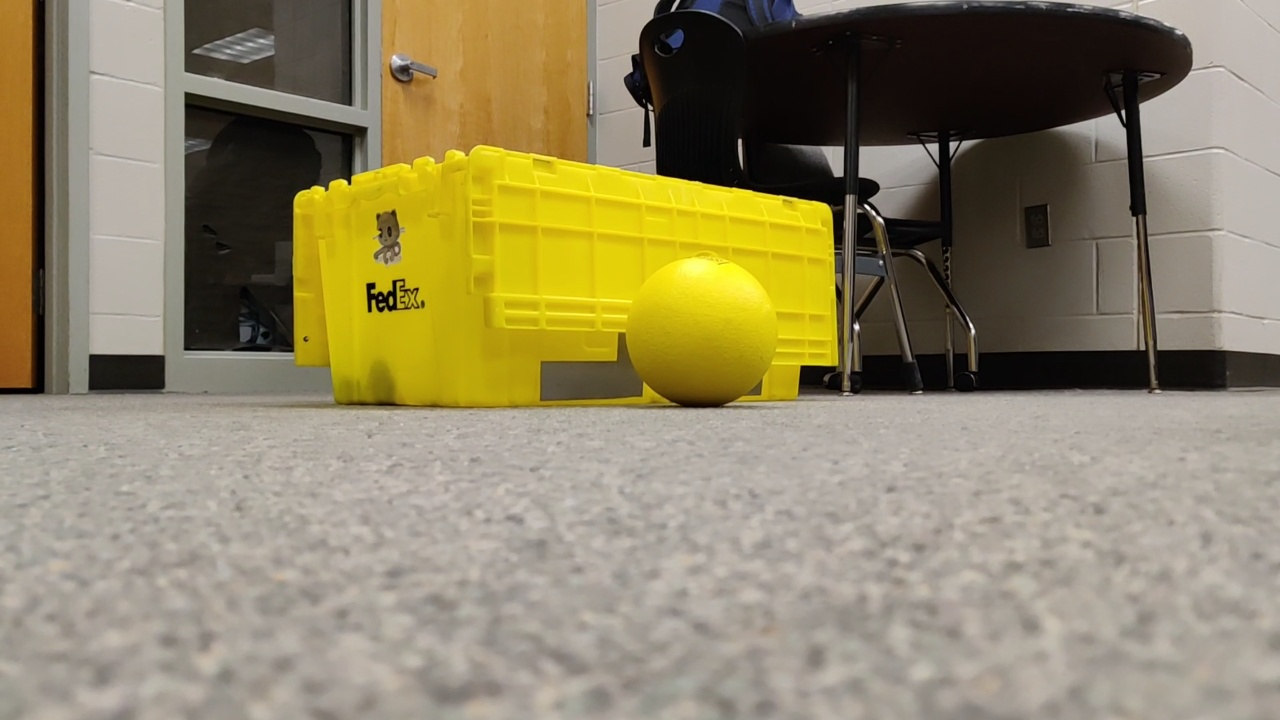Ball: (625, 251, 781, 399)
